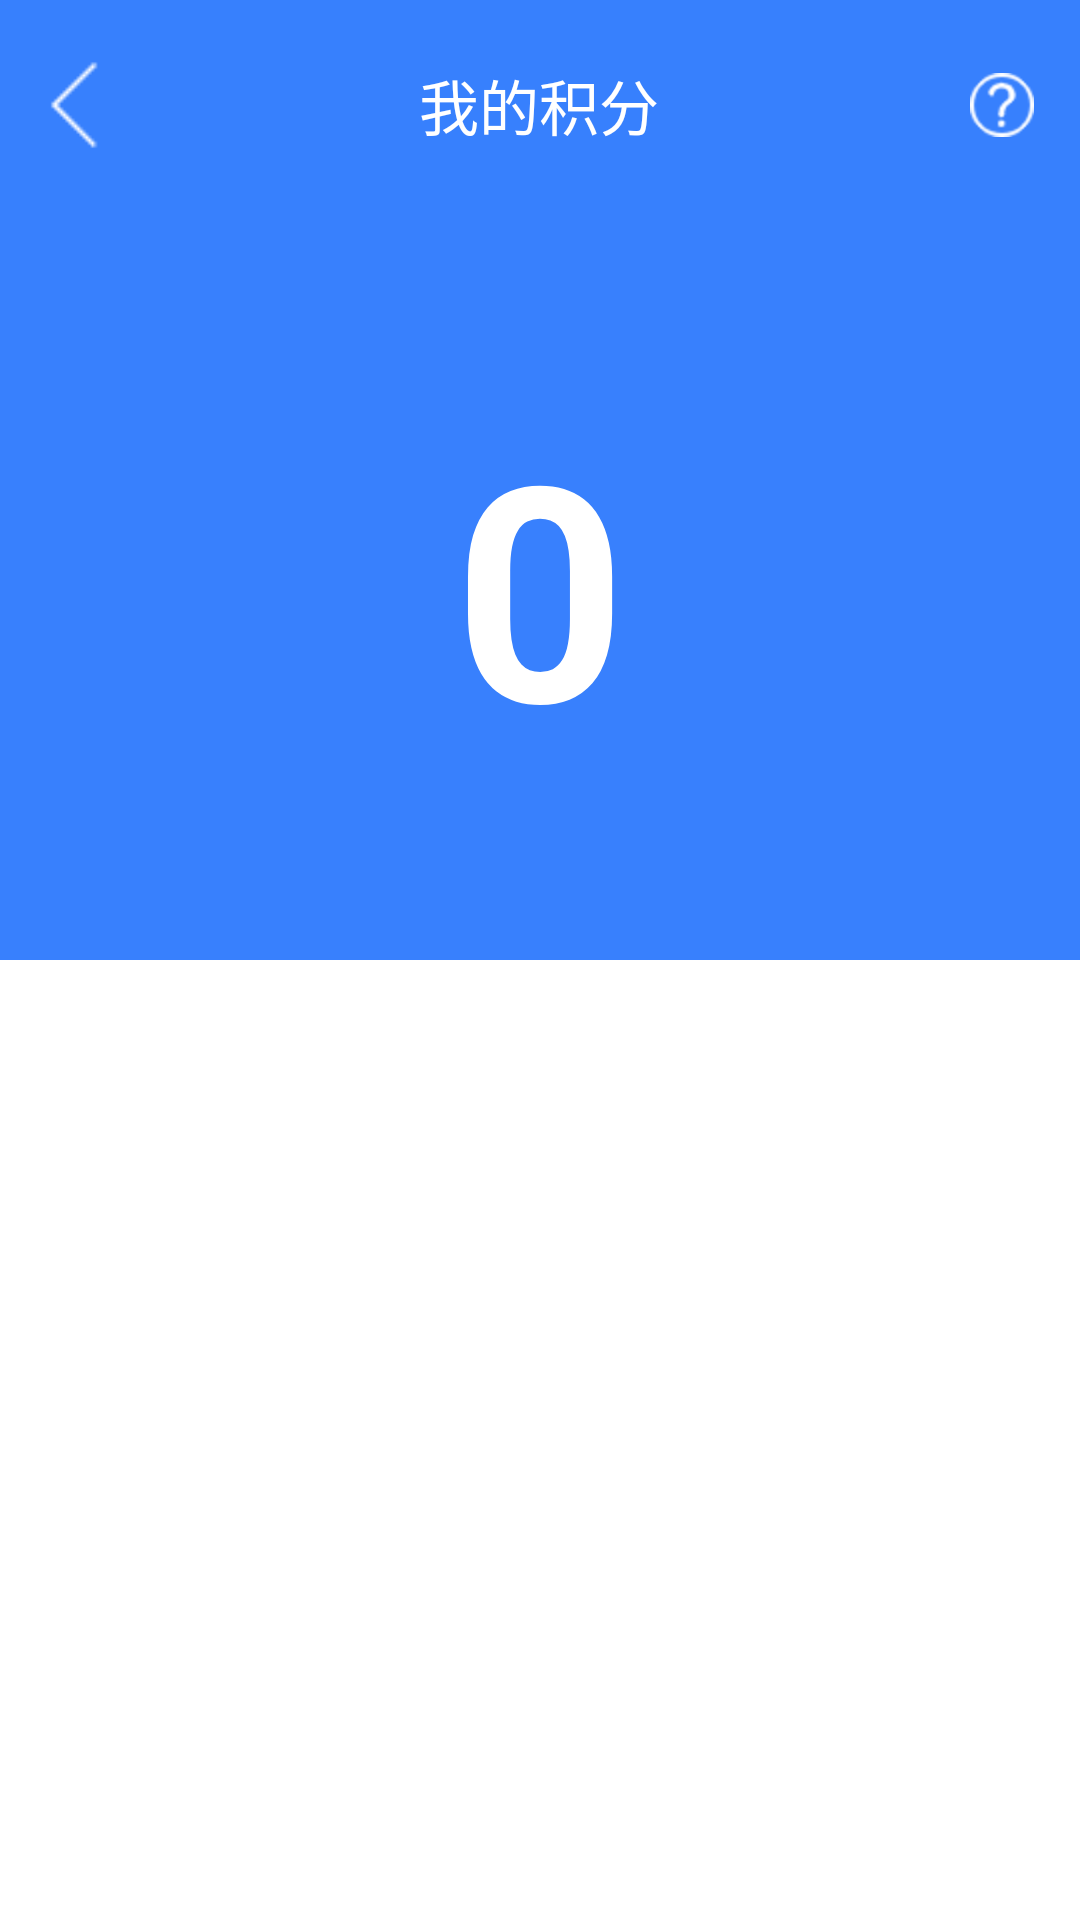

Screen size 1080 x 1920. Icon name, then its center in pixels as [x,y]:
back: [74,105]
